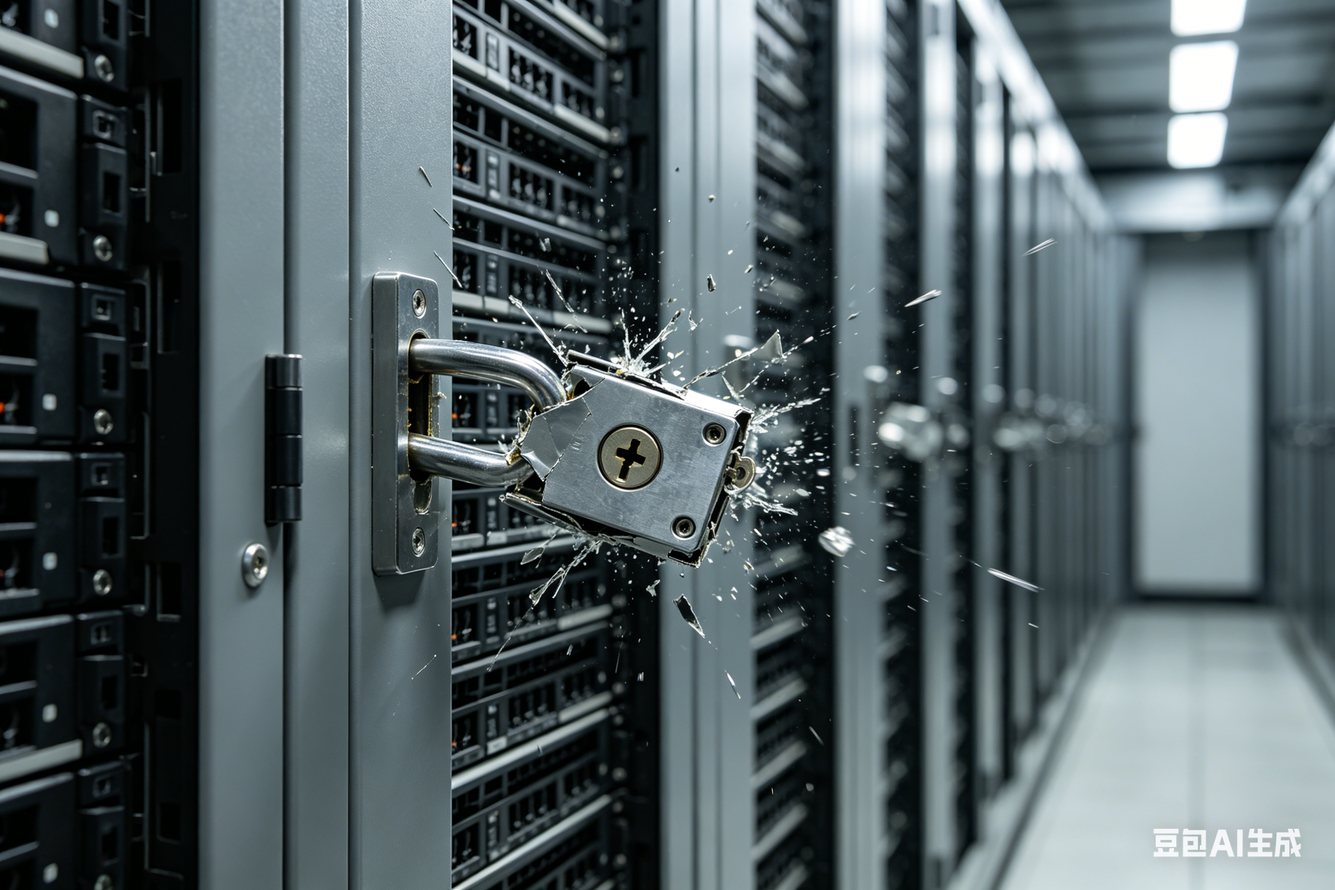BadLock: (473, 350, 693, 561)
